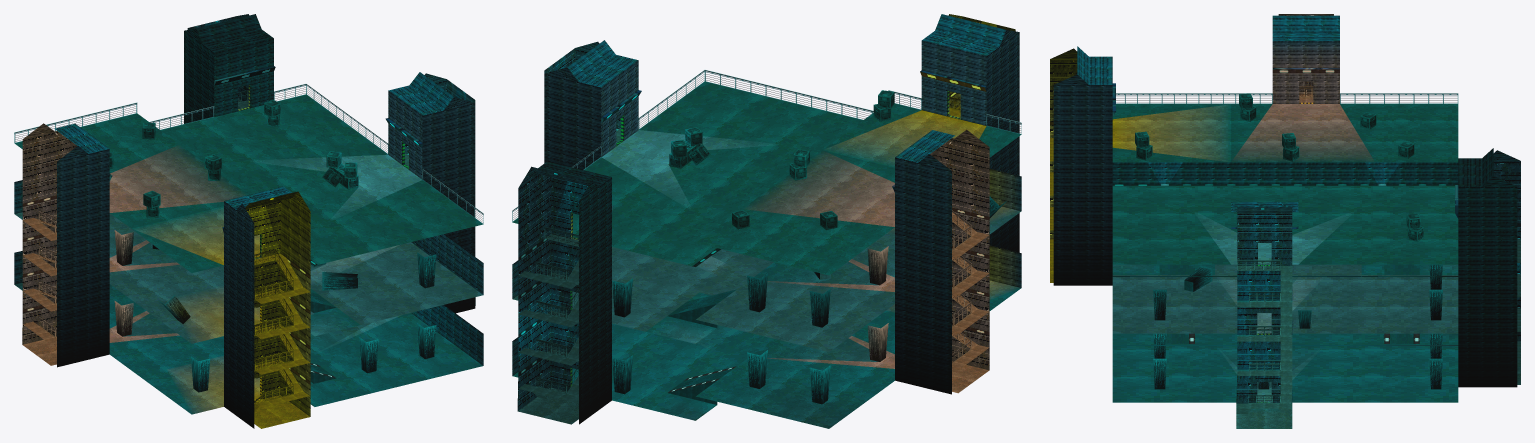
Rendered from CarPark.glb.
3 views of the same model, side by side, from view 1: azimuth 30°, elevation 25°; view 2: azimuth 150°, elevation 25°; view 3: azimuth 270°, elevation 25° (orthographic). The views are drawn at different scales.
Parts seen in each view (by area): view 1: CarPark_3, CarPark_2, CarPark_13, CarPark_10, CarPark_Alpha_14, CarPark_Alpha_8, CarPark_6, CarPark_1, CarPark_5; view 2: CarPark_3, CarPark_2, CarPark_10, CarPark_13, CarPark_Alpha_14, CarPark_Alpha_8, CarPark_5, CarPark_1, CarPark_6; view 3: CarPark_3, CarPark_2, CarPark_13, CarPark_10, CarPark_Alpha_8, CarPark_Alpha_14, CarPark_5, CarPark_1, CarPark_6, CarPark_11.
Part boxes in pixels (<box>): CarPark_3: <box>14,95,483,428</box>; CarPark_2: <box>14,14,483,428</box>; CarPark_13: <box>23,98,408,411</box>; CarPark_10: <box>114,230,436,392</box>; CarPark_Alpha_14: <box>39,90,293,403</box>; CarPark_Alpha_8: <box>14,84,483,224</box>; CarPark_6: <box>109,103,358,217</box>; CarPark_1: <box>22,67,422,384</box>; CarPark_5: <box>109,100,357,216</box>; CarPark_3: <box>512,81,1021,428</box>; CarPark_2: <box>512,14,1021,424</box>; CarPark_10: <box>612,196,1006,404</box>; CarPark_13: <box>518,105,988,401</box>; CarPark_Alpha_14: <box>535,96,971,399</box>; CarPark_Alpha_8: <box>512,70,1021,222</box>; CarPark_5: <box>671,90,893,229</box>; CarPark_1: <box>518,71,989,392</box>; CarPark_6: <box>669,92,894,229</box>; CarPark_3: <box>1050,104,1520,428</box>; CarPark_2: <box>1050,14,1520,403</box>; CarPark_13: <box>1050,93,1520,413</box>; CarPark_10: <box>1153,264,1442,389</box>; CarPark_Alpha_8: <box>1116,93,1458,103</box>; CarPark_Alpha_14: <box>1237,86,1313,403</box>; CarPark_5: <box>1135,93,1423,241</box>; CarPark_1: <box>1050,69,1520,343</box>; CarPark_6: <box>1137,98,1423,241</box>; CarPark_11: <box>1073,60,1497,345</box>.
Bounding box in the file's own units: 479 × 272 × 498.
16 materials, 16 textured.
